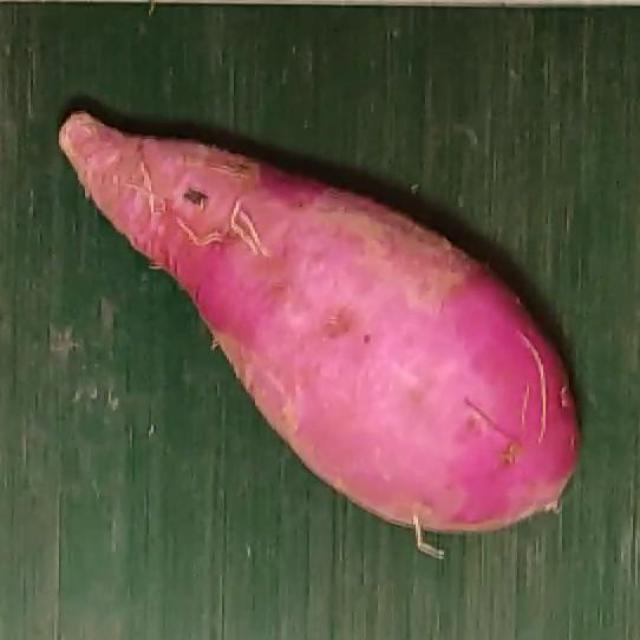Sweet Potato: (57, 106, 582, 558)
